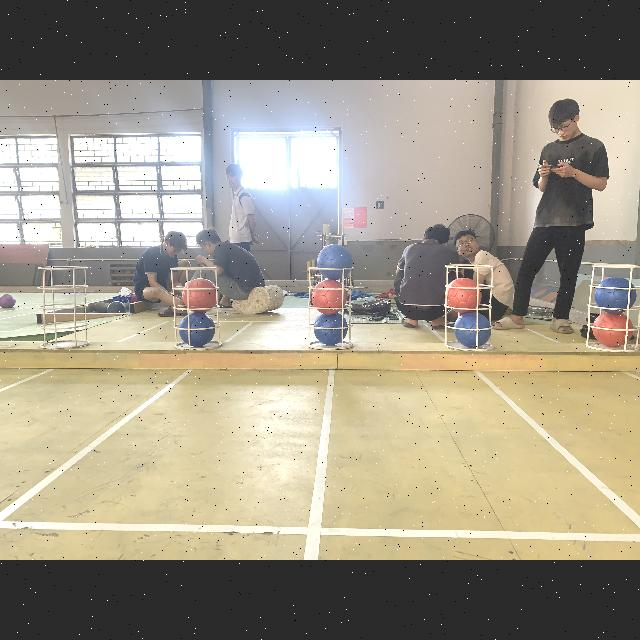B: (594, 277, 636, 313), (454, 312, 492, 348), (316, 244, 354, 280), (178, 312, 216, 348), (312, 313, 348, 345)
R: (592, 313, 634, 347), (445, 278, 483, 312), (310, 280, 348, 314), (181, 278, 217, 310)
